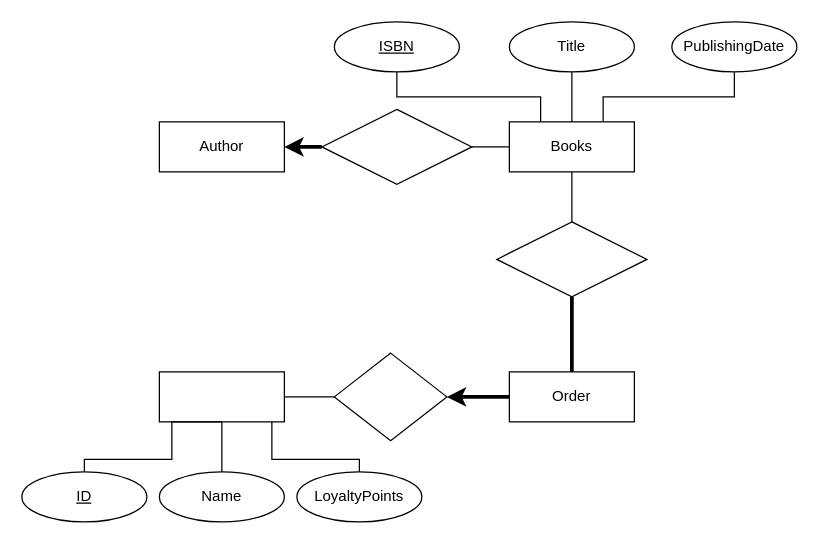
The diagram is 819 pixels wide and 544 high, and some of its shapes have lost their labels. Each missing label, with the box of its shape:
Contains: (496, 221, 647, 297)
Customer: (158, 371, 284, 422)
Places: (333, 352, 447, 441)
Writes: (321, 108, 472, 184)
